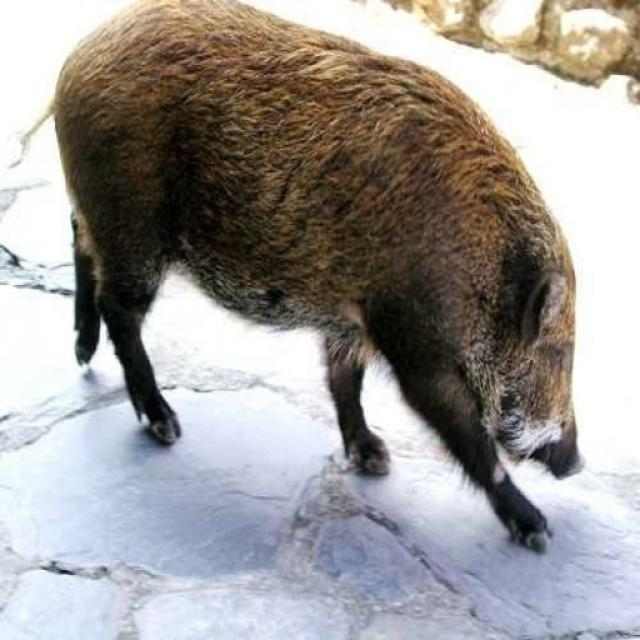pig: (29, 0, 616, 621)
